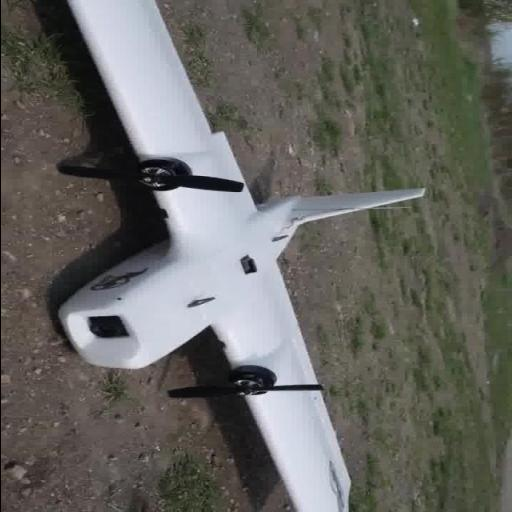uav: (47, 0, 429, 511)
